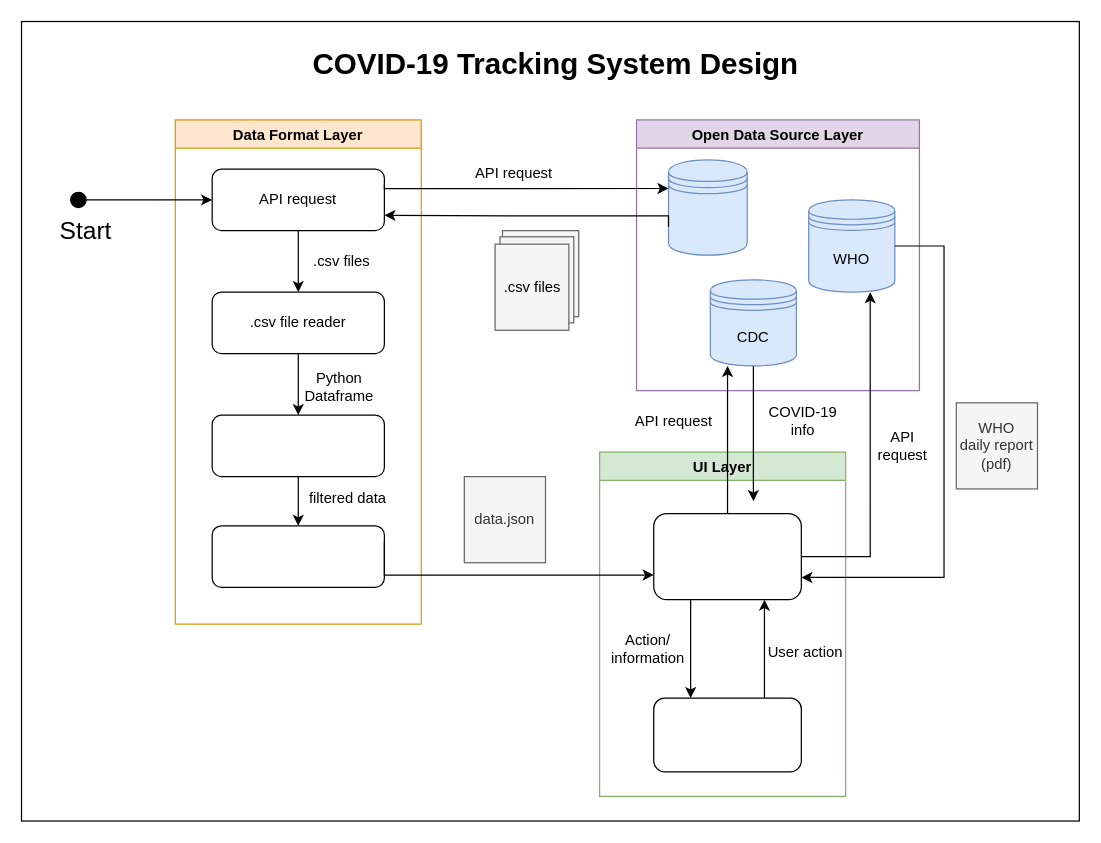
This 1101x843 diagram has some shape labels left out. The centre of each missing label's shape, as x and y in pixels:
Filter and formate data: [297,445]
JH: [707,207]
json writer: [297,556]
React DOM Controller: [727,556]
Website: [727,734]
